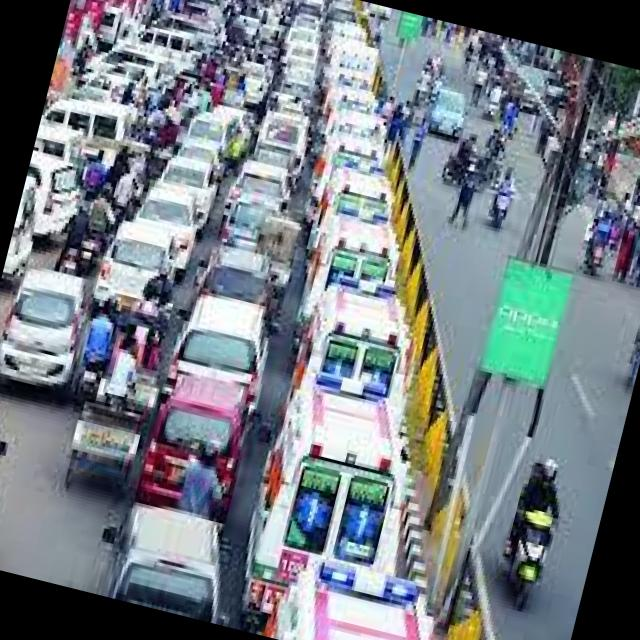ambulance: (251, 396, 416, 594), (304, 28, 415, 212), (301, 274, 424, 414), (291, 412, 418, 537), (326, 213, 400, 280)
